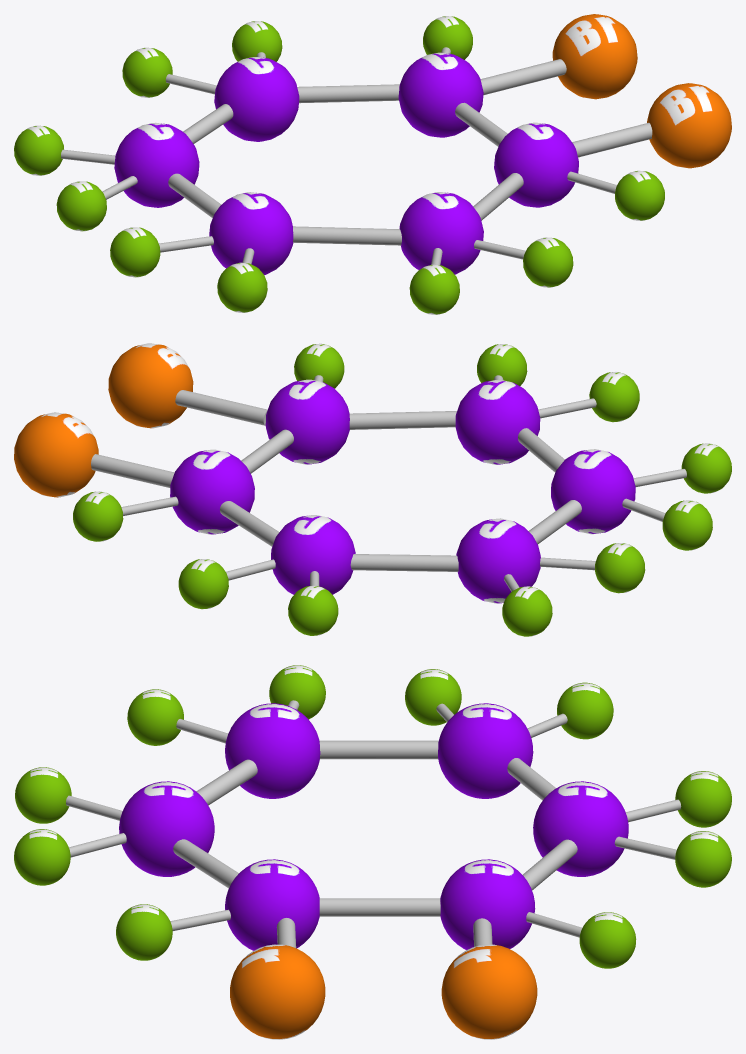
Rendered from SM_Molecule_2.fbx.
3 views of the same model, one above another, from view 1: azimuth 30°, elevation 25°; view 2: azimuth 150°, elevation 25°; view 3: azimuth 270°, elevation 25° (orthographic). The views are drawn at different scales.
Visible parts, largest first — view 1: SM_Bromine1, SM_Bromine2, Carbon5, Carbon4, Carbon3, Carbon, Carbon1, Carbon2, Hydrogen1, Hydrogen, Hydrogen3, Hydrogen9 (+19 smaller); view 2: SM_Bromine2, SM_Bromine1, Carbon2, Carbon3, Carbon, Carbon1, Carbon4, Carbon5, Hydrogen, Hydrogen4, Hydrogen5, Hydrogen6 (+19 smaller); view 3: SM_Bromine2, SM_Bromine1, Carbon, Carbon1, Carbon2, Carbon5, Carbon3, Carbon4, Hydrogen8, Hydrogen6, Hydrogen3, Hydrogen7 (+18 smaller).
Part boxes in pixels (<box>): SM_Bromine1: <box>647,83,731,168</box>; SM_Bromine2: <box>552,14,637,99</box>; Carbon5: <box>214,57,299,141</box>; Carbon4: <box>398,52,483,137</box>; Carbon3: <box>494,122,578,207</box>; Carbon: <box>114,122,199,207</box>; Carbon1: <box>209,192,293,274</box>; Carbon2: <box>399,192,483,274</box>; Hydrogen1: <box>217,262,267,312</box>; Hydrogen: <box>110,227,160,277</box>; Hydrogen3: <box>523,237,573,287</box>; Hydrogen9: <box>56,181,106,231</box>; SM_Bromine2: <box>14,412,98,497</box>; SM_Bromine1: <box>108,343,193,428</box>; Carbon2: <box>455,379,540,464</box>; Carbon3: <box>265,379,349,464</box>; Carbon: <box>456,518,540,603</box>; Carbon1: <box>551,449,635,534</box>; Carbon4: <box>170,449,254,534</box>; Carbon5: <box>271,515,355,594</box>; Hydrogen: <box>662,500,712,550</box>; Hydrogen4: <box>502,586,552,636</box>; Hydrogen5: <box>288,585,338,635</box>; Hydrogen6: <box>178,559,228,609</box>; SM_Bromine2: <box>441,944,537,1039</box>; SM_Bromine1: <box>230,944,325,1039</box>; Carbon: <box>438,703,533,798</box>; Carbon1: <box>225,703,320,798</box>; Carbon2: <box>119,781,214,876</box>; Carbon5: <box>533,781,628,876</box>; Carbon3: <box>225,859,319,950</box>; Carbon4: <box>440,859,535,949</box>; Hydrogen8: <box>116,904,172,960</box>; Hydrogen6: <box>675,831,731,887</box>; Hydrogen3: <box>14,829,70,885</box>; Hydrogen7: <box>579,912,636,968</box>.
Bounding box in the file's own units: 452 × 54.98 × 414.
